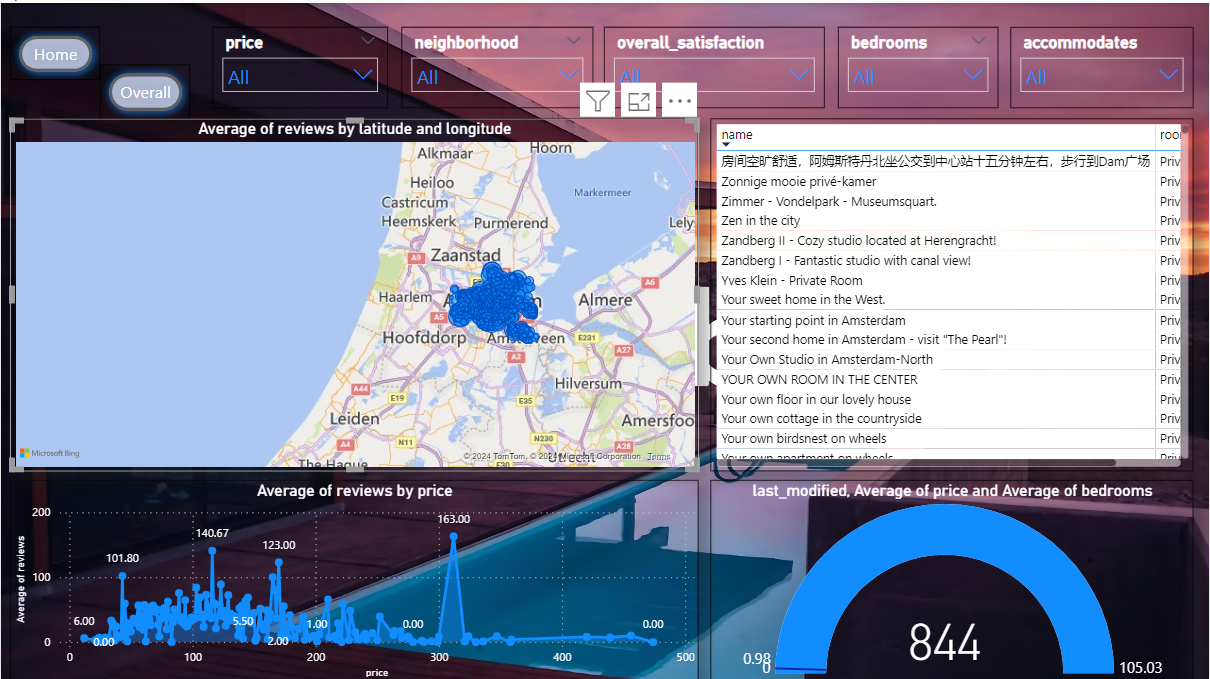

Layout of this report page (visuals, bound fields, positions):
{"tool":"powerbi","page":{"name":"Reviews","canvas":[1280,720],"ordinal":2},"visuals":[{"type":"slicer","fields":{"Values":["Final AirBnb Prices.price"]},"box":[224.3,25.4,186.1,85.9],"z":0},{"type":"slicer","fields":{"Values":["Final AirBnb Prices.overall_satisfaction"]},"box":[639.4,25.4,233.8,85.9],"z":1000},{"type":"slicer","fields":{"Values":["Final AirBnb Prices.neighborhood"]},"box":[424.7,25.4,203.6,85.9],"z":2000},{"type":"azureMap","fields":{"X":["Final AirBnb Prices.longitude"],"Y":["Final AirBnb Prices.latitude"],"Size":["Avg(Final AirBnb Prices.reviews)"]},"box":[9.5,122.5,730.1,373.8],"z":3000},{"type":"slicer","fields":{"Values":["Final AirBnb Prices.bedrooms"]},"box":[887.6,25.4,170.2,85.9],"z":4000},{"type":"tableEx","fields":{"Values":["Final AirBnb Prices.name","Final AirBnb Prices.room_type"]},"box":[752.4,122.5,512.2,373.8],"z":5000},{"type":"lineChart","fields":{"Y":["Avg(Final AirBnb Prices.reviews)"],"Category":["Final AirBnb Prices.price"]},"box":[10,506,730,214],"z":6000},{"type":"gauge","title":"last_modified, Average of price and Average of bedrooms","fields":{"Y":["Count(Final AirBnb Prices.last_modified)"],"TargetValue":["Avg(Final AirBnb Prices.bedrooms)1"],"MaxValue":["Avg(Final AirBnb Prices.price)"]},"box":[752,506,512,214],"z":7000},{"type":"slicer","fields":{"Values":["Final AirBnb Prices.accommodates"]},"box":[1070.5,25.4,194.1,85.9],"z":8000},{"type":"actionButton","title":"Overall","box":[9.5,25.4,95.4,55.7],"z":9000},{"type":"actionButton","title":"Overall","box":[105,65.2,95.4,57.3],"z":10000}]}

Visuals, with their boxes in screenshot pixels (x1, y1, x2, y2), scaled from the page's 1280x720 canvas onto the 1210x679 screenshot:
slicer - Final AirBnb Prices.price: region(212, 24, 388, 105)
slicer - Final AirBnb Prices.overall_satisfaction: region(604, 24, 825, 105)
slicer - Final AirBnb Prices.neighborhood: region(401, 24, 594, 105)
azureMap - Final AirBnb Prices.longitude x Final AirBnb Prices.latitude: region(9, 116, 699, 468)
slicer - Final AirBnb Prices.bedrooms: region(839, 24, 1000, 105)
tableEx - Final AirBnb Prices.name x Final AirBnb Prices.room_type: region(711, 116, 1195, 468)
lineChart - Avg(Final AirBnb Prices.reviews) x Final AirBnb Prices.price: region(9, 477, 700, 678)
"last_modified, Average of price and Average of bedrooms" gauge: region(711, 477, 1195, 678)
slicer - Final AirBnb Prices.accommodates: region(1012, 24, 1195, 105)
"Overall" actionButton: region(9, 24, 99, 76)
"Overall" actionButton: region(99, 61, 189, 116)
